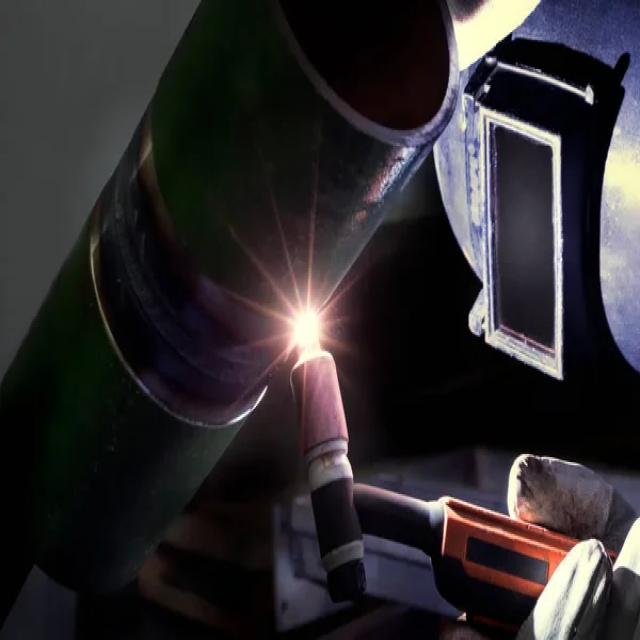welding: (289, 311, 318, 351)
